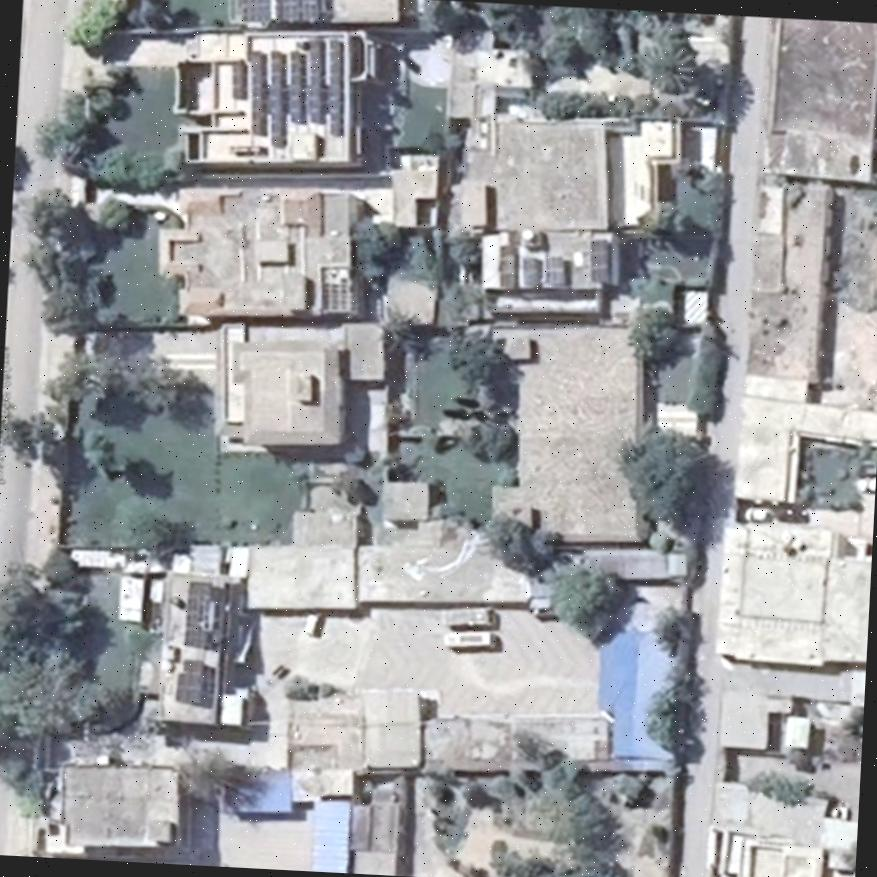Solarpanel: (184, 582, 209, 645), (248, 50, 265, 134), (327, 39, 341, 135), (175, 656, 203, 703), (307, 40, 322, 123), (270, 49, 282, 145), (288, 50, 303, 120), (589, 238, 609, 279), (276, 0, 321, 18), (540, 254, 566, 284), (237, 0, 271, 20), (232, 60, 247, 101)
